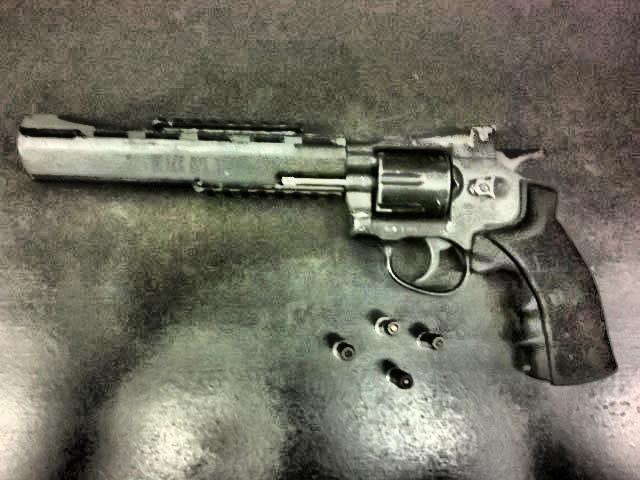pistol: (9, 98, 619, 394)
